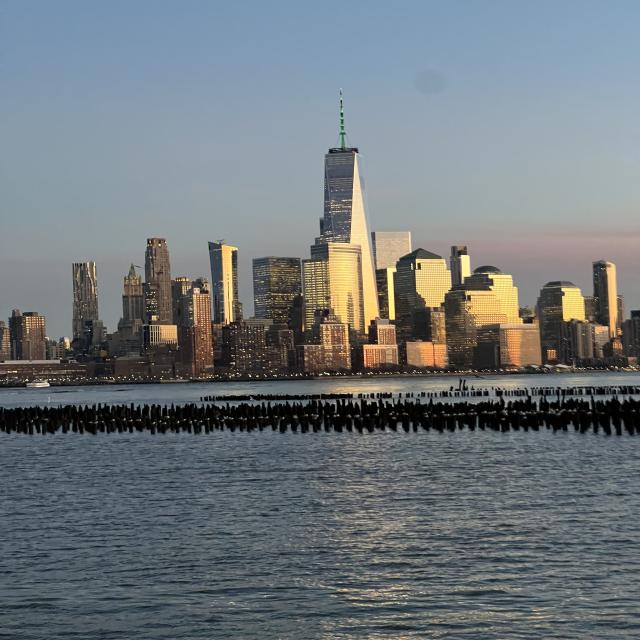WTC: (323, 90, 370, 242)
